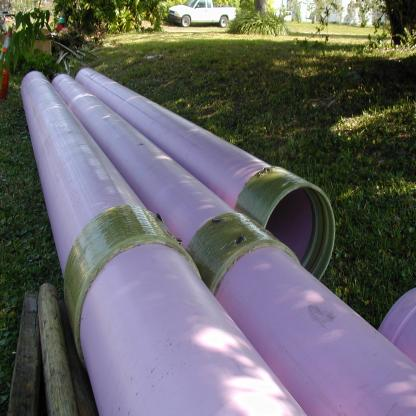PVC: (21, 66, 416, 415)
